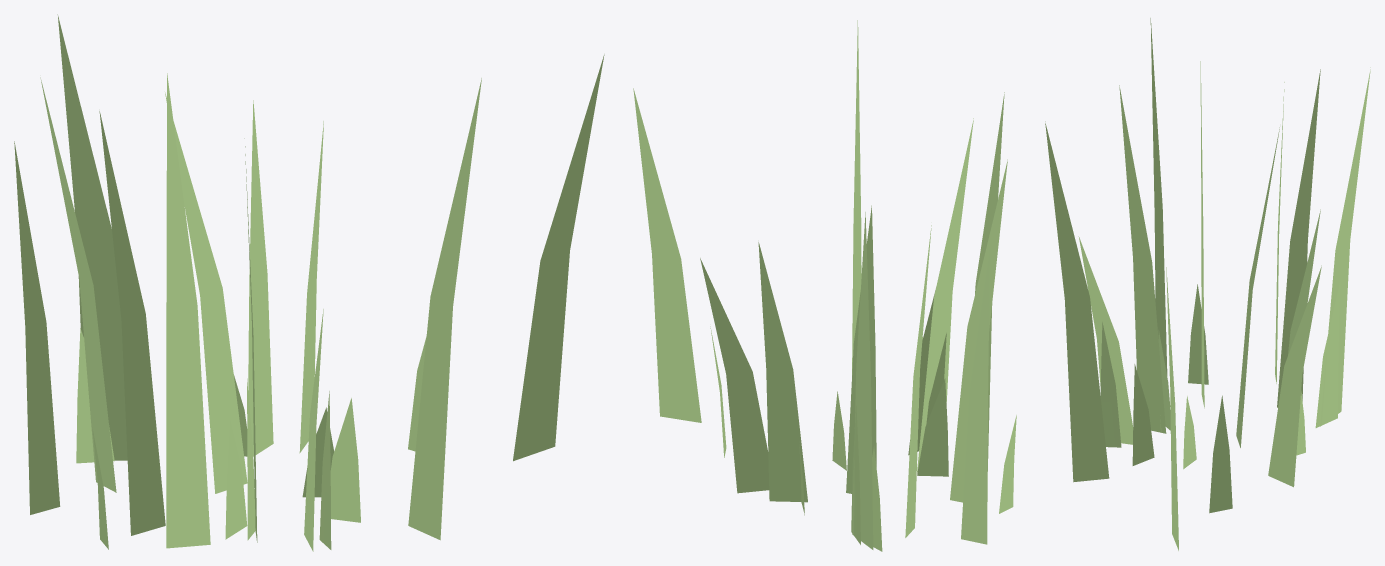
Rendered from grass.glb.
3 renders of one model, left to right at view 1: azimuth 30°, elevation 25°; view 2: azimuth 150°, elevation 25°; view 3: azimuth 270°, elevation 25°, orthographic. The views are drawn at different scales.
Visible parts, largest first — view 1: Grass_Wild, Grass_Lawn; view 2: Grass_Wild, Grass_Lawn; view 3: Grass_Wild, Grass_Lawn.
Boxes of the visible parts, box(x1,y1,x2,y2) form: Grass_Wild: box(14, 14, 604, 551); Grass_Lawn: box(76, 328, 426, 549); Grass_Wild: box(633, 20, 1007, 549); Grass_Lawn: box(710, 326, 1016, 551); Grass_Wild: box(1045, 18, 1370, 550); Grass_Lawn: box(1100, 282, 1340, 513).
Size of the model in its own units: 0.6037 by 0.5453 by 0.4214.
